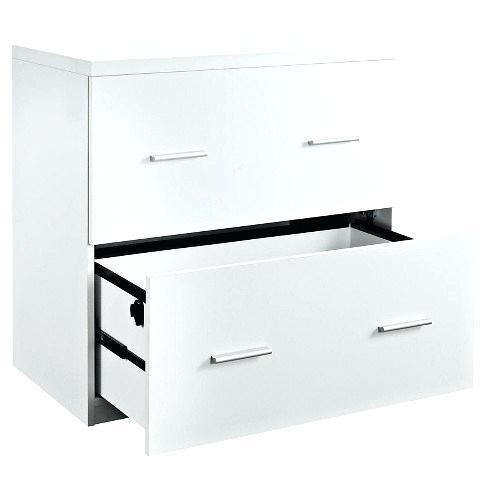cabinet_door: (89, 72, 479, 226), (151, 277, 484, 420)
handle: (142, 144, 211, 171), (206, 345, 278, 368), (371, 315, 434, 339), (301, 134, 362, 151)
